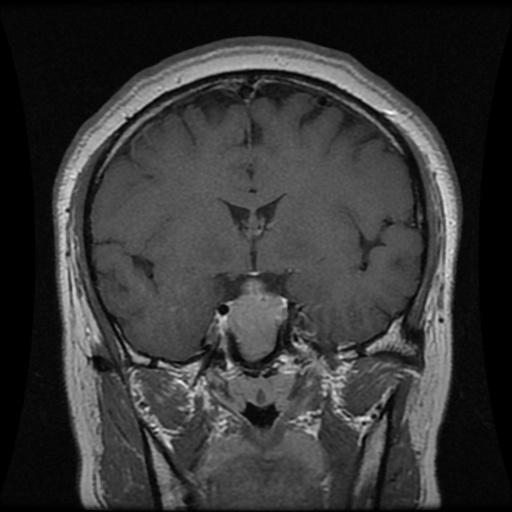pituitary: (228, 278, 285, 359)
